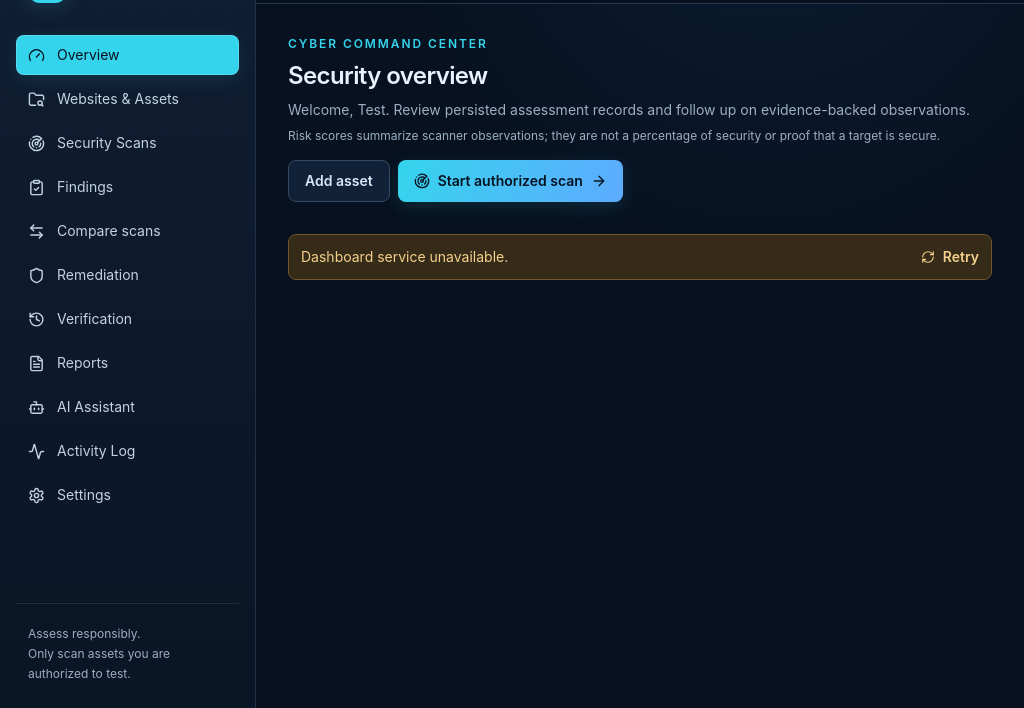
Sentinel AI application shell › does not present an API failure as an empty dashboard and allows retry
expect the message shows "Dashboard service unavailable.": met, box 301,248 -> 508,265
expect the text "No security scans yet" is not shown: met
Click the button "Retry": (950, 257) 921,247 -> 979,267
(page scrolled)
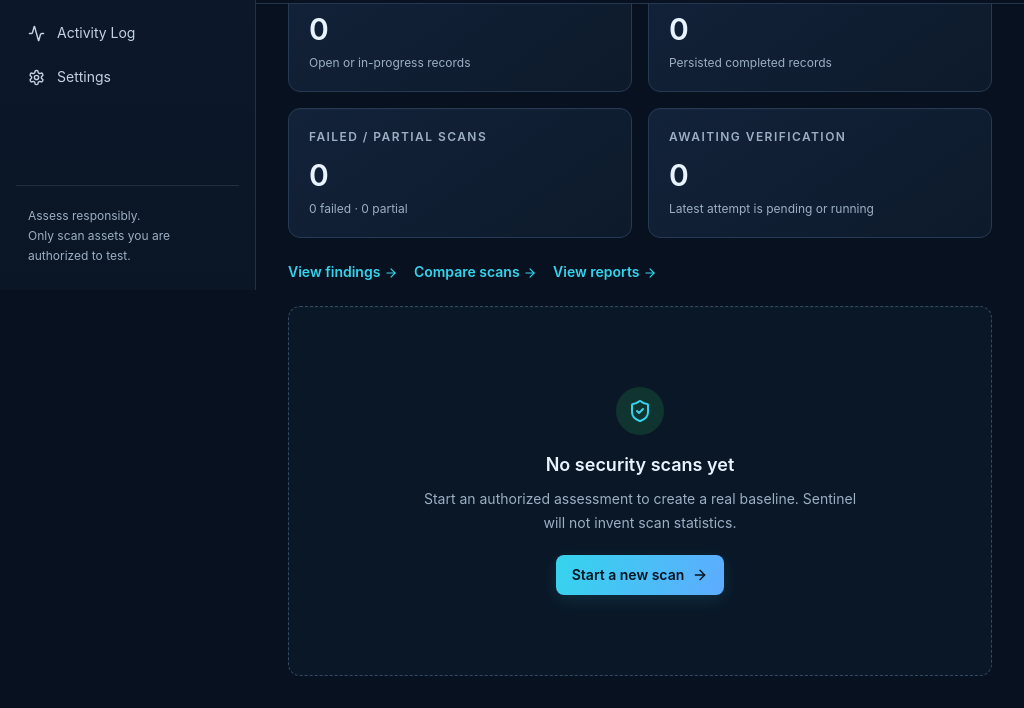
expect the heading "No security scans yet" is shown: met, box 546,454 -> 734,475
